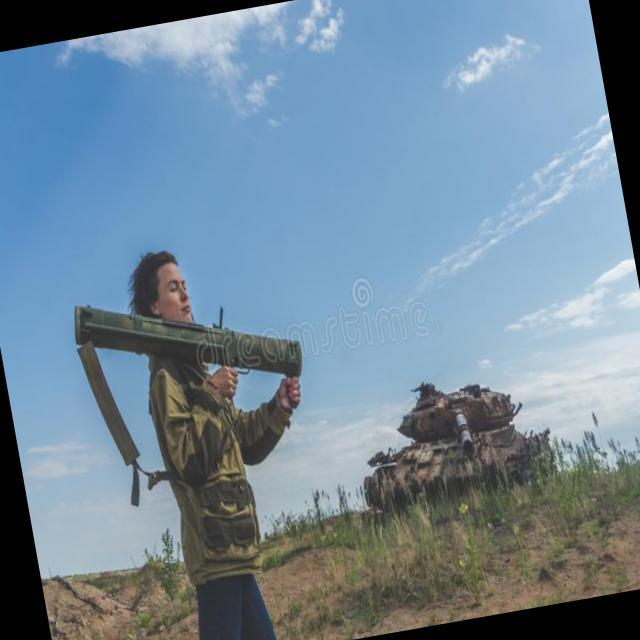rocket: (66, 261, 306, 414)
